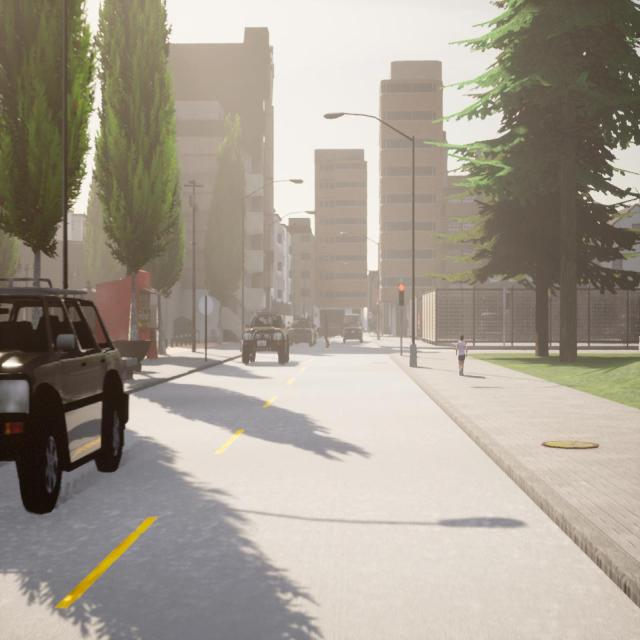Pedestrian: (455, 335, 467, 375), (322, 315, 331, 350)
Traffic_Signs: (197, 296, 214, 314), (368, 311, 373, 319)
Vehicle: (0, 280, 128, 512), (241, 311, 290, 365), (287, 319, 317, 346), (343, 322, 363, 344)
traffic_light: (399, 284, 404, 306), (376, 302, 378, 310)
